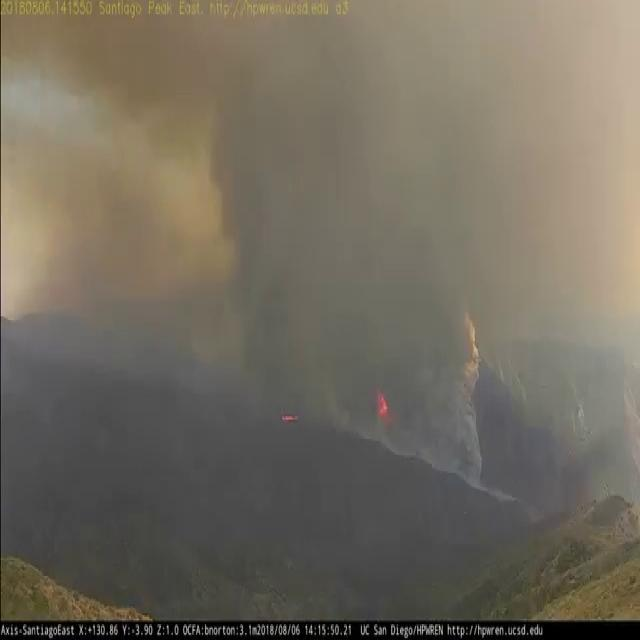Fire: (379, 380, 389, 420), (280, 409, 298, 427)
Smoke: (460, 314, 482, 486)
